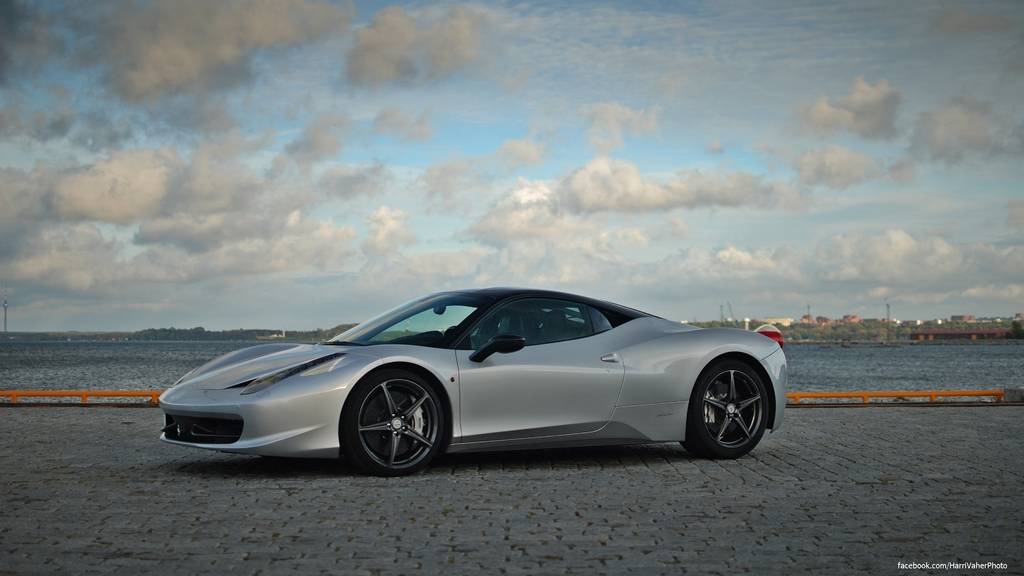Car: (159, 282, 790, 471)
